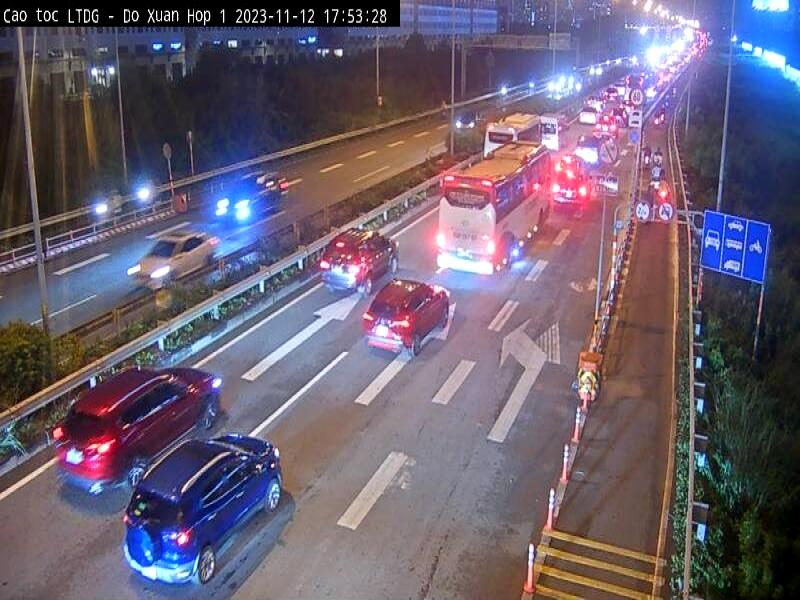truck: (431, 138, 557, 282)
